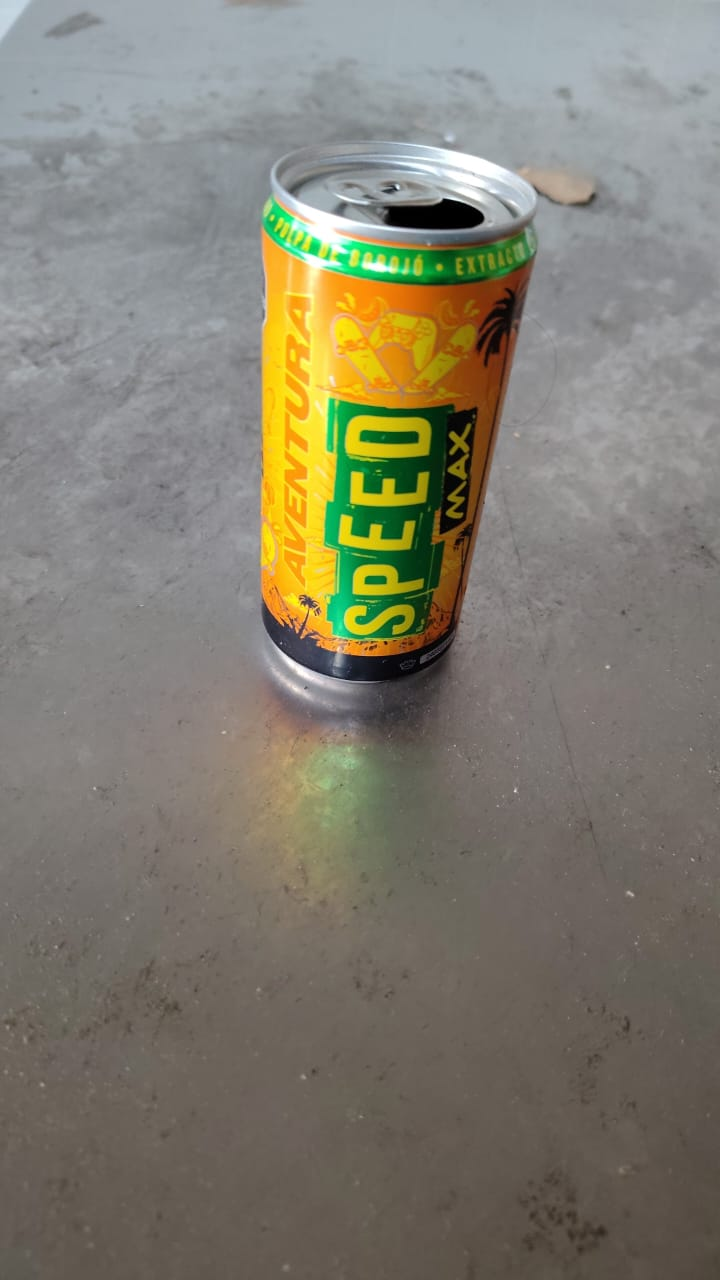Metal: (259, 139, 537, 696)
